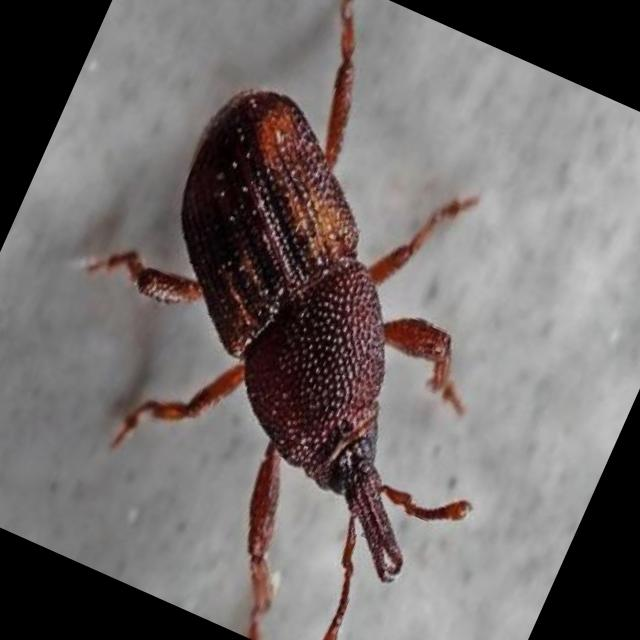rice-bug: (62, 66, 559, 594)
